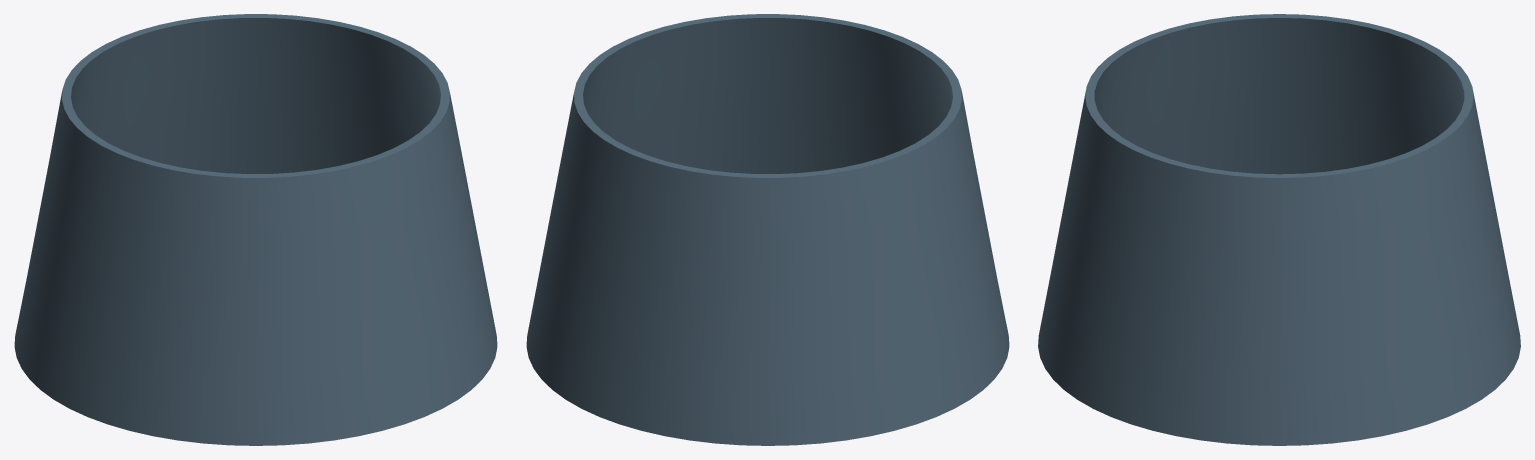
Rendered from perehod-530x12-426x10-L300.glb.
3 renders of one model, left to right at view 1: azimuth 30°, elevation 25°; view 2: azimuth 150°, elevation 25°; view 3: azimuth 270°, elevation 25°, orthographic.
Visible parts, largest first — view 1: Open CASCADE STEP translator 7.9 79; view 2: Open CASCADE STEP translator 7.9 79; view 3: Open CASCADE STEP translator 7.9 79.
Boxes of the visible parts, x1,y1,x2,y2 form: Open CASCADE STEP translator 7.9 79: (14,14,497,445); Open CASCADE STEP translator 7.9 79: (526,14,1009,445); Open CASCADE STEP translator 7.9 79: (1038,14,1520,445).
Bounding box in the file's own units: 530 × 300 × 530.
